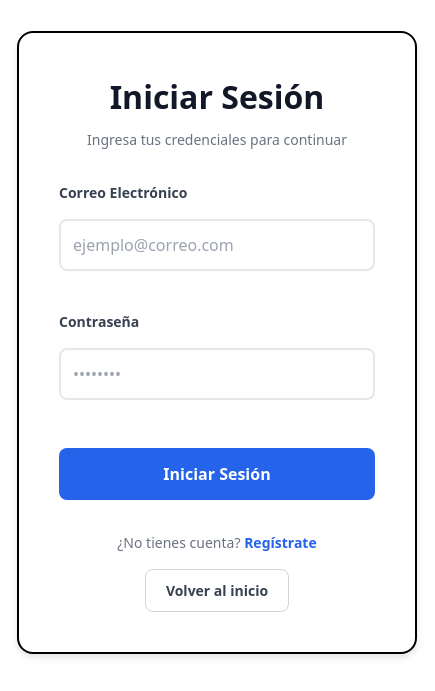
Test: LoginPage › Validación de campos › debe mostrar error si la contraseña es muy corta
Step 1. Type "123" into the password field labelled "Contraseña" → (217, 374), box [59,348,375,400]
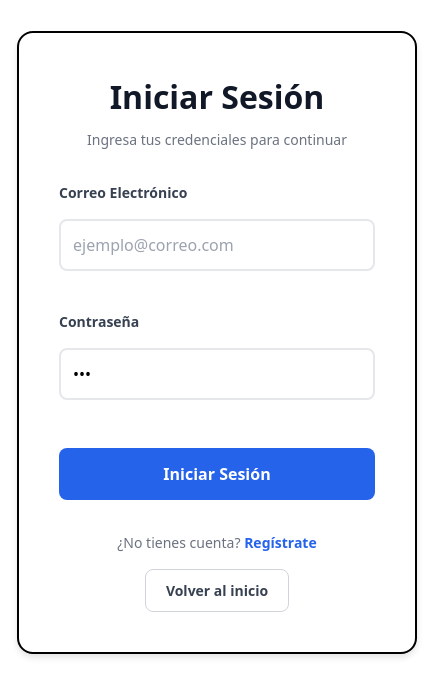
Step 2. Leave the password field labelled "Contraseña", box [59,348,375,400]
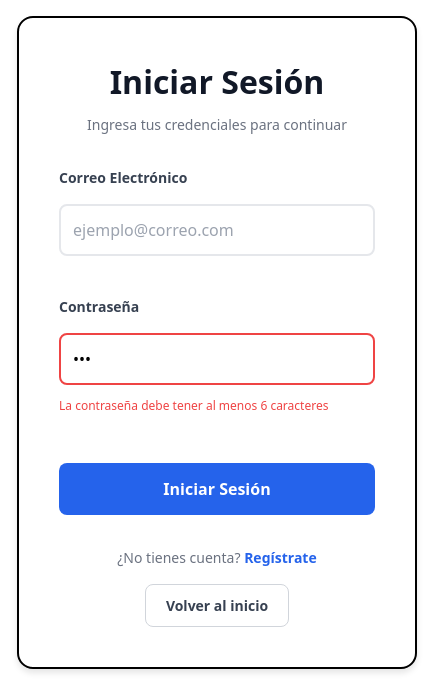
Expected: the text "La contraseña debe tener al menos 6 caracteres" is shown, [59,396,375,414]
